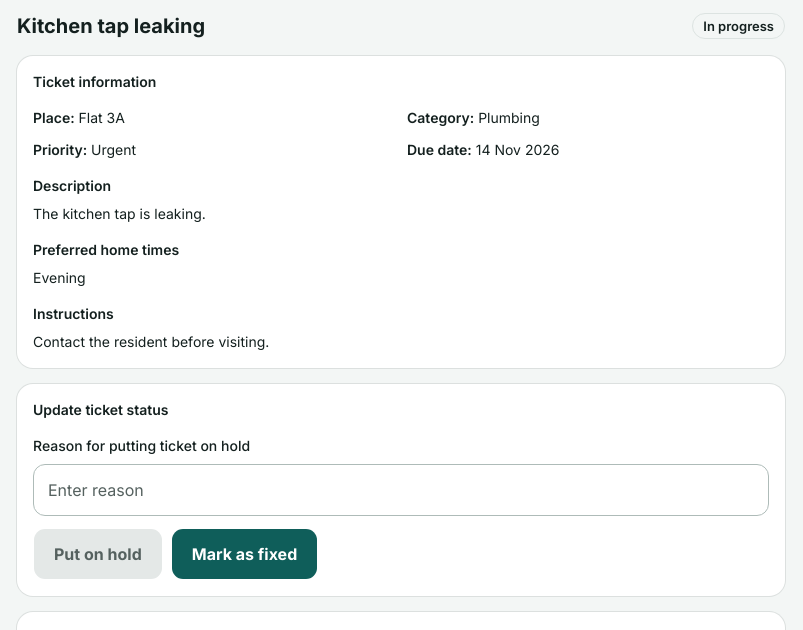
it: TicketDetail › changes ticket status to fixed
This screenshot has width=803, height=630.
Expected: the heading "Kitchen tap leaking" is shown, [17,12,205,40]
Click the button "Mark as fixed". click: (244,554)
box: [171,528,318,580]
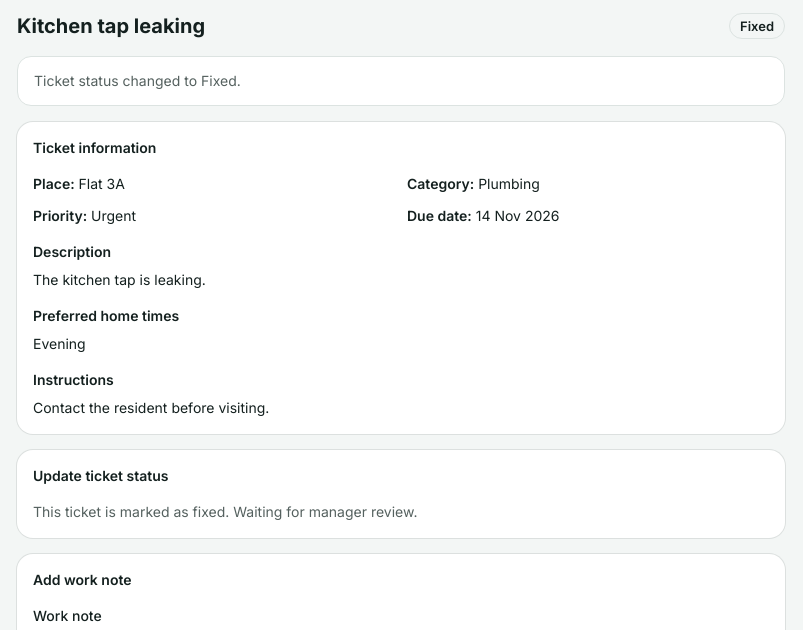
Result: the text "Ticket status changed to Fixed." is shown at [34,72,241,89]
